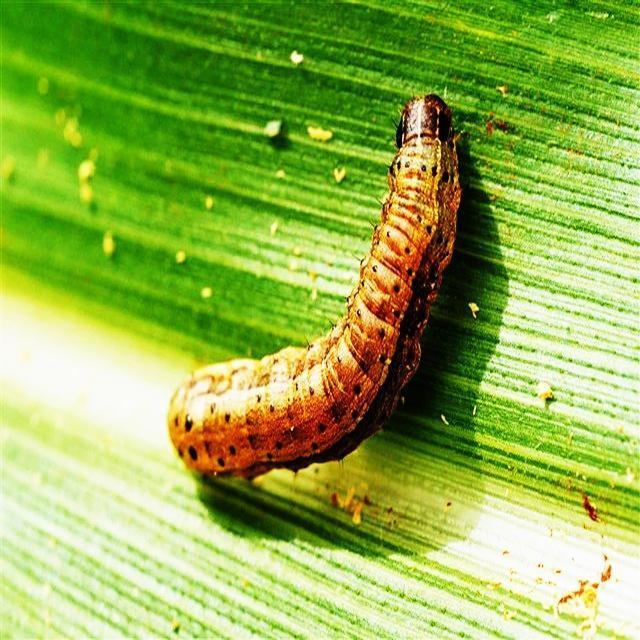gusano_cogollero: (164, 85, 467, 484)
